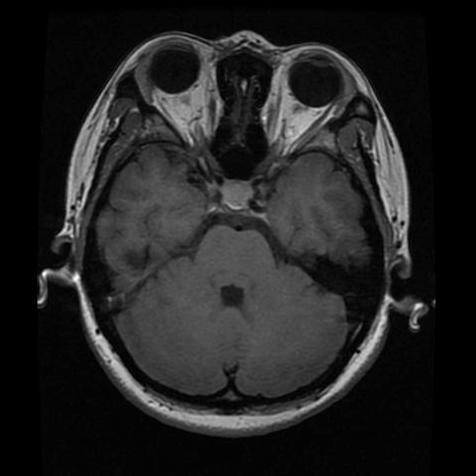Tumour-Pituitary: (203, 174, 278, 227)
